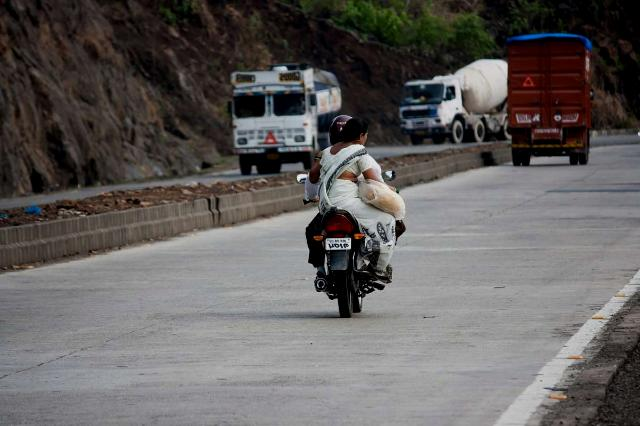licensePlate: (321, 236, 354, 252)
motorcycle: (305, 105, 402, 314)
withHelmet: (324, 110, 352, 141)
withoutHelmet: (343, 125, 370, 147)
